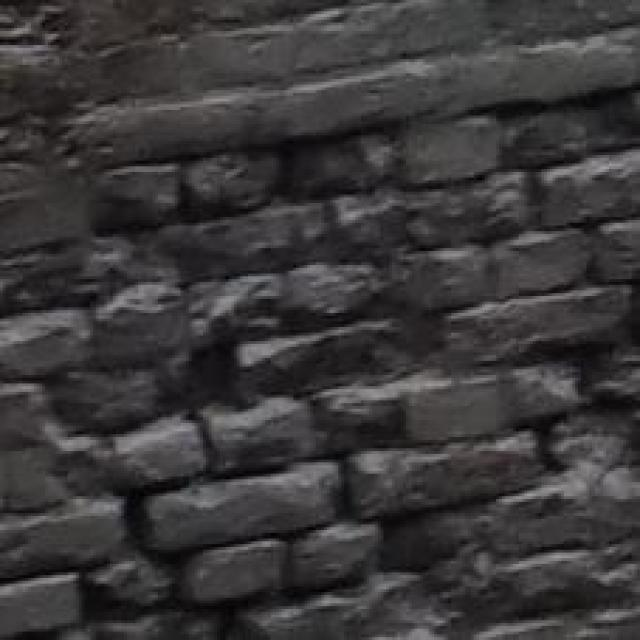Crack: (71, 123, 631, 640)
